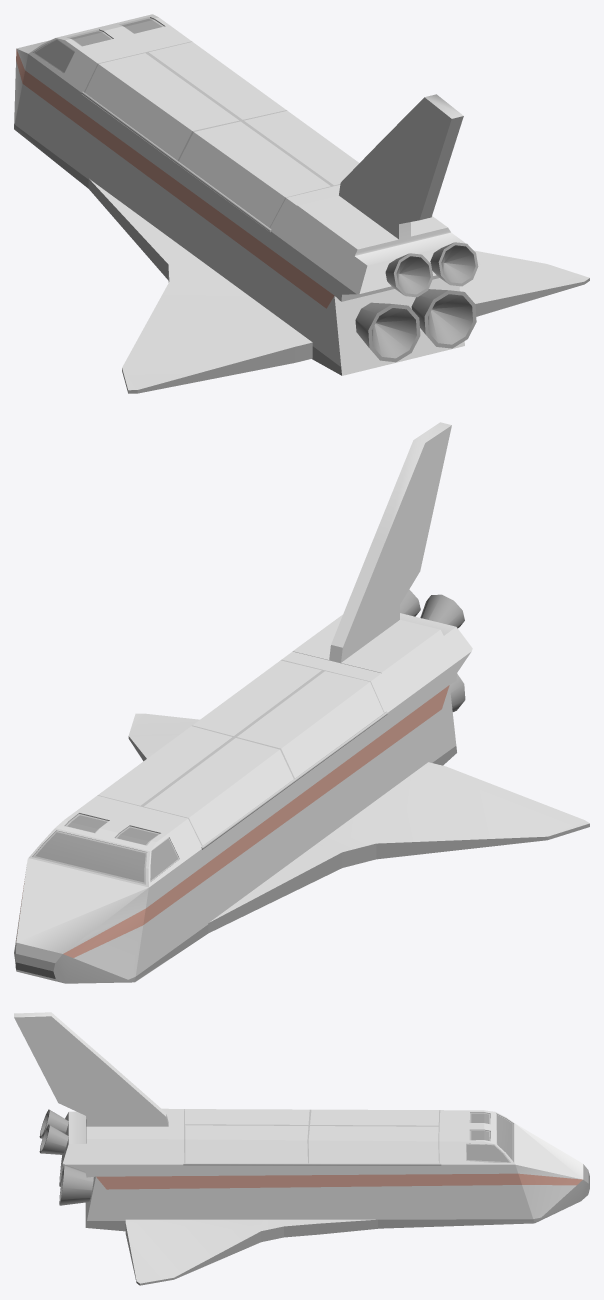
The model's file is shuttle.fbx.
3 views of the same model, one above another, from view 1: azimuth 30°, elevation 25°; view 2: azimuth 150°, elevation 25°; view 3: azimuth 270°, elevation 25° (orthographic). The views are drawn at different scales.
Visible parts, largest first — view 1: Null_3; view 2: Null_3; view 3: Null_3.
Boxes of the visible parts, <box> form: Null_3: <box>14,14,589,393</box>; Null_3: <box>14,422,589,983</box>; Null_3: <box>14,1012,589,1285</box>.
Size of the model in its own units: 1503 by 902 by 2370.
